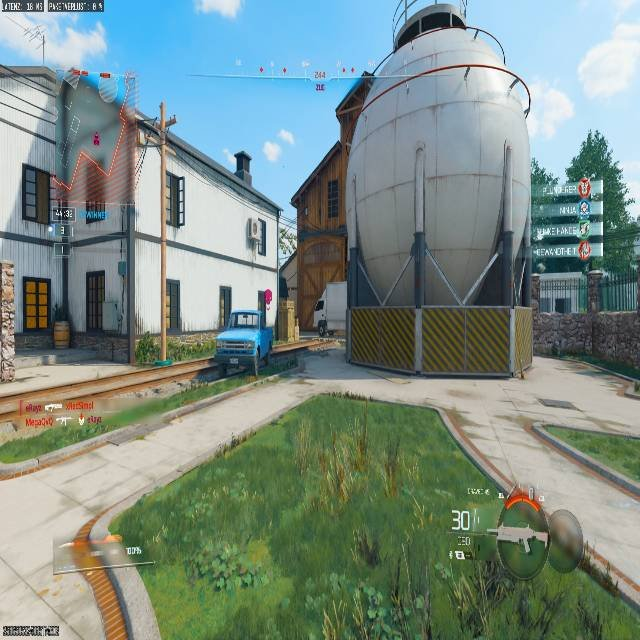player: (315, 311, 327, 338)
